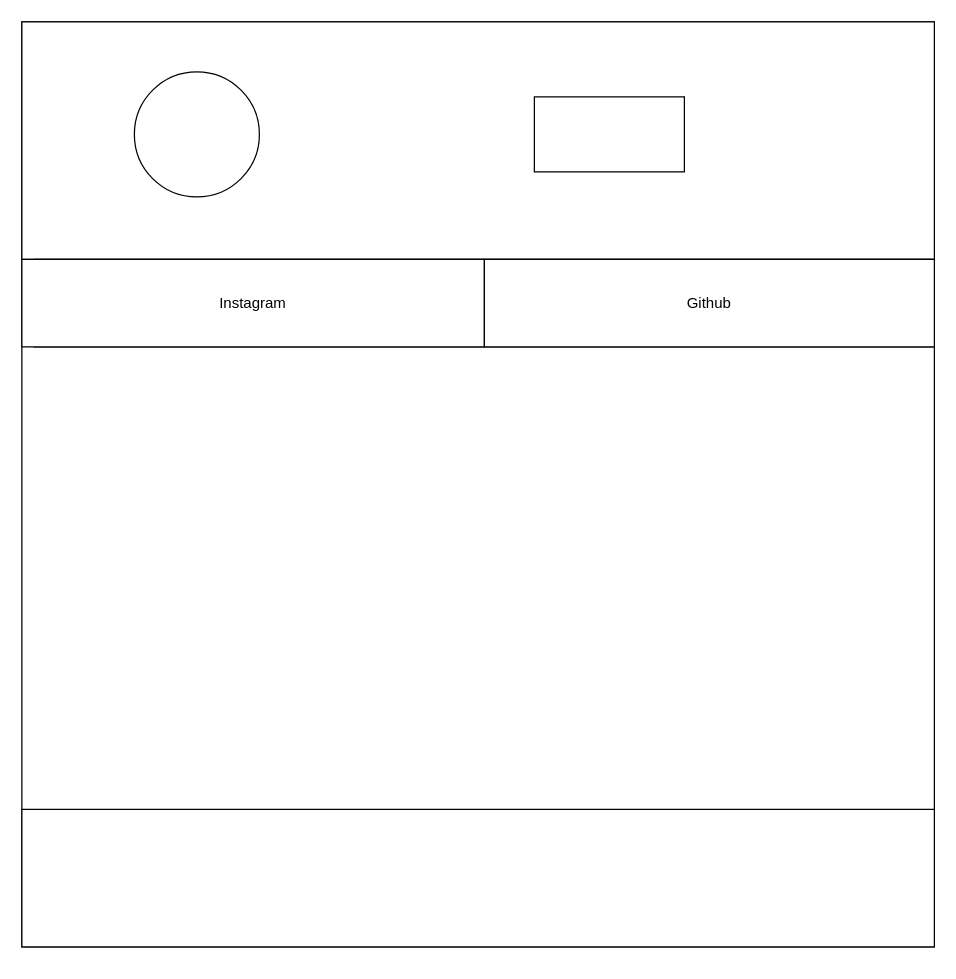
Image size: 956x979. Some labels were removed from this diagram. Here are the shapes that lost their labels. From the top down, the centre of each, then its label:
At (x=196, y=134): "Foto".
At (x=608, y=134): "Nome".
